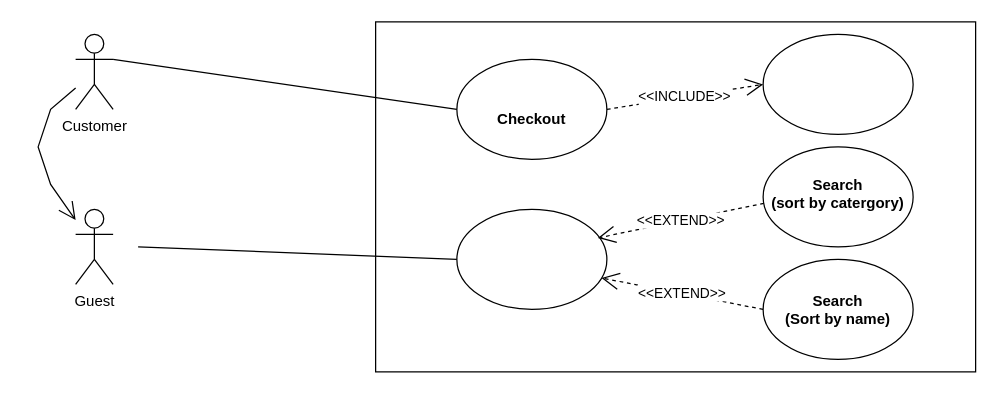
The diagram is 998 pixels wide and 394 high, and some of its shapes have lost their labels. Here are the shapes that lost their labels. From the top down, the centre of each, then its label:
pixel 837 83: Make payment
pixel 531 258: Search
